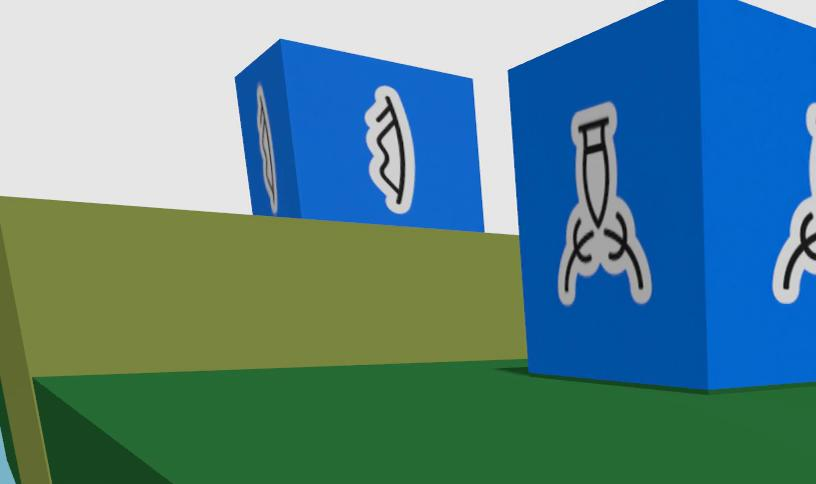KFS_REAL: (510, 0, 816, 390), (237, 40, 483, 230), (555, 102, 650, 305), (773, 103, 816, 303), (365, 86, 413, 214), (255, 84, 277, 214)
